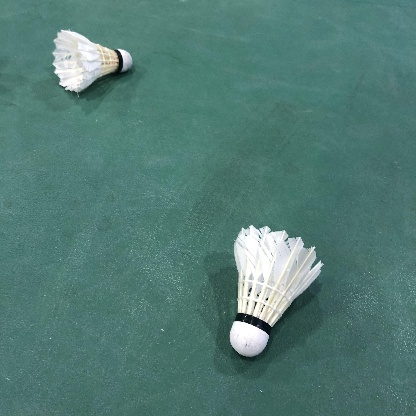ball_single: (230, 225, 324, 357), (52, 30, 133, 92)
